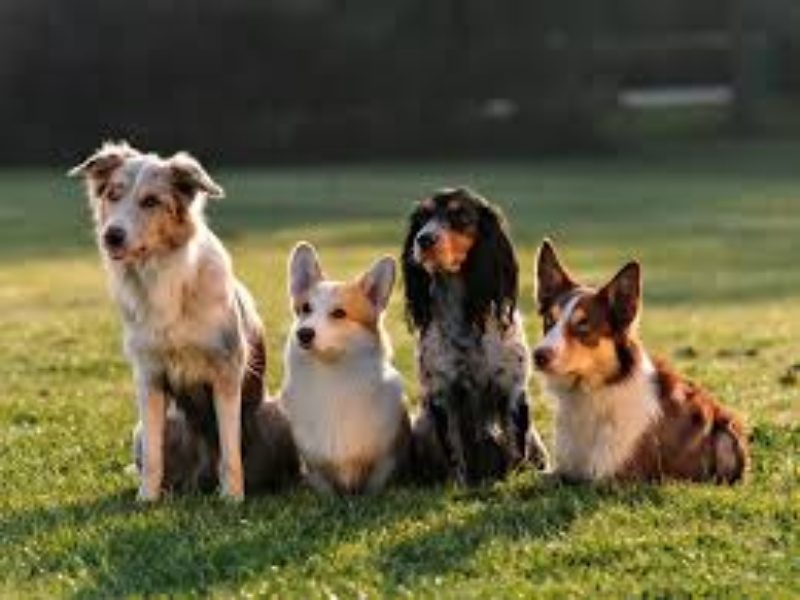dog: (68, 135, 281, 513), (533, 234, 755, 500), (403, 184, 548, 495), (269, 242, 418, 505)
